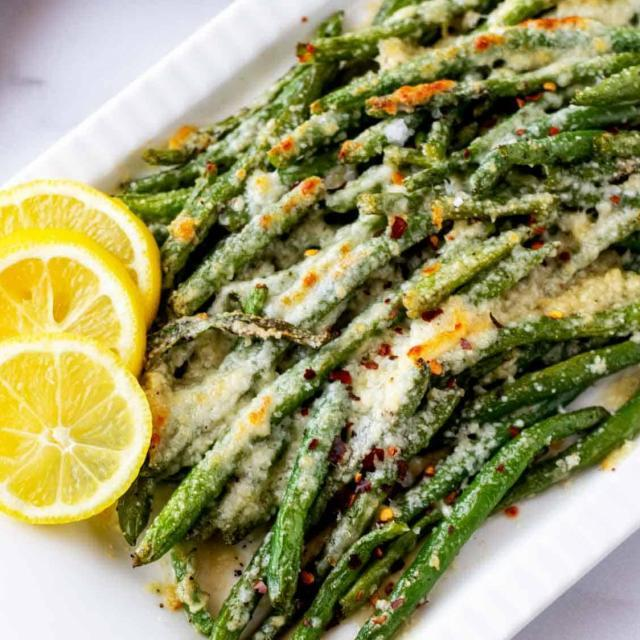Beans: (123, 0, 639, 639)
